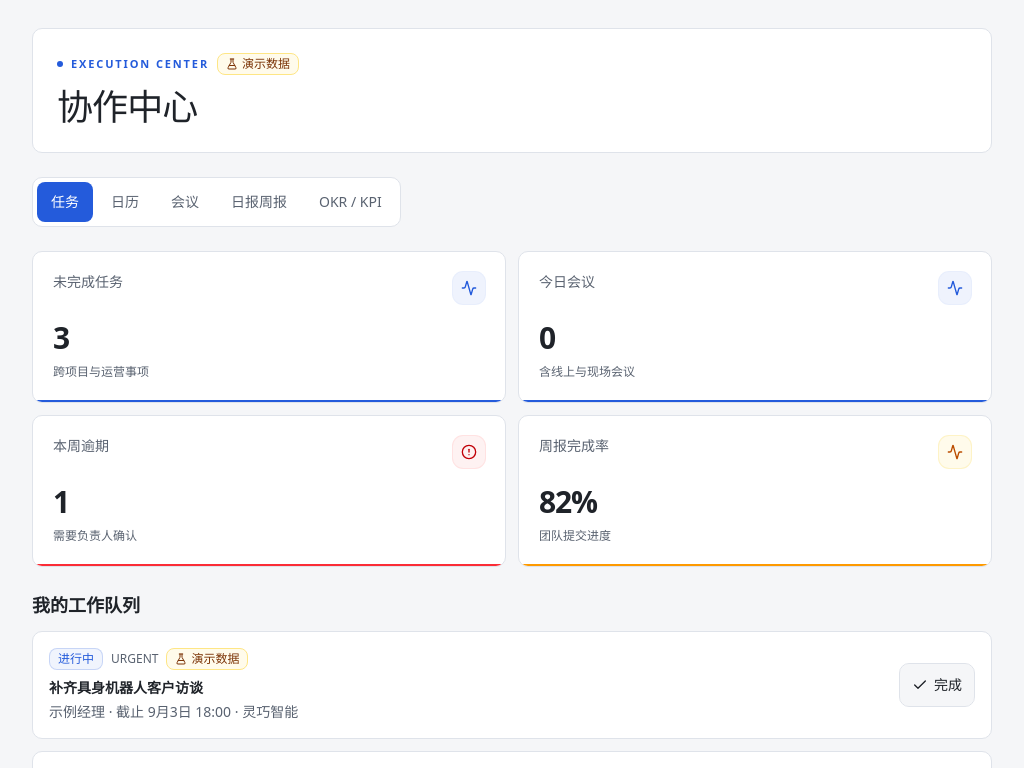
interactive operating centers › lets a manager complete a work item and retains the visible result
Click the button with aria-label "完成 补齐具身机器人客户访谈".
click(937, 685)  # box [899,663,975,707]
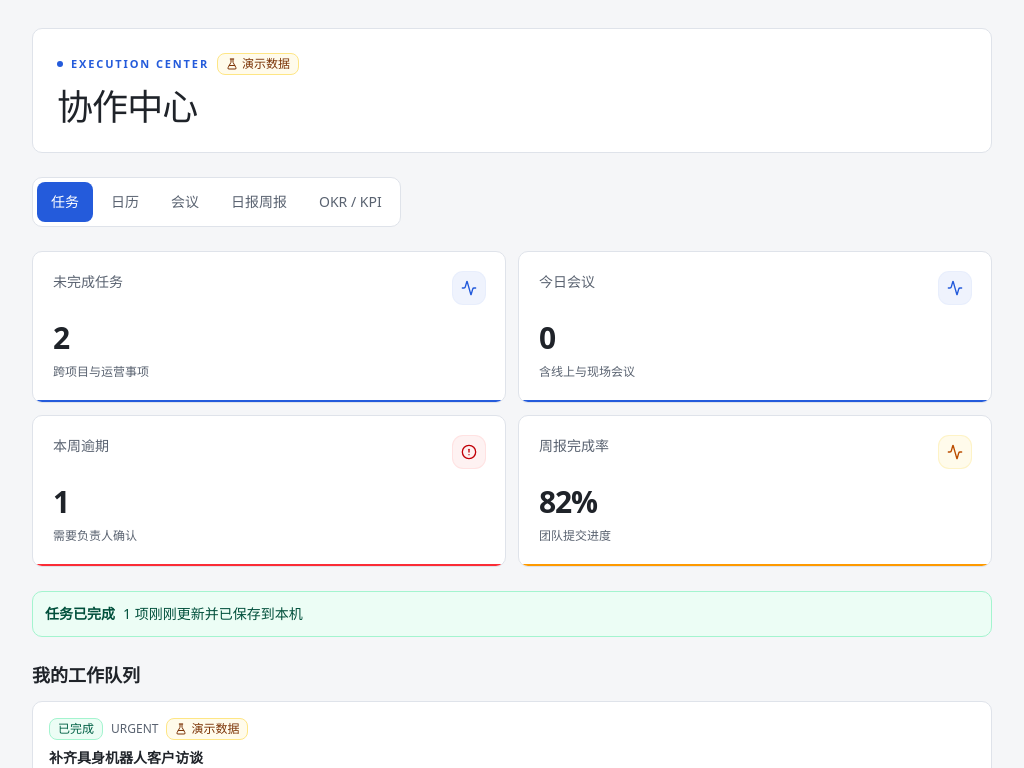
Now the text "任务已完成" is shown, box [45,604,115,623]
Now the text "1 项刚刚更新并已保存到本机" is shown, box [123,604,303,623]
